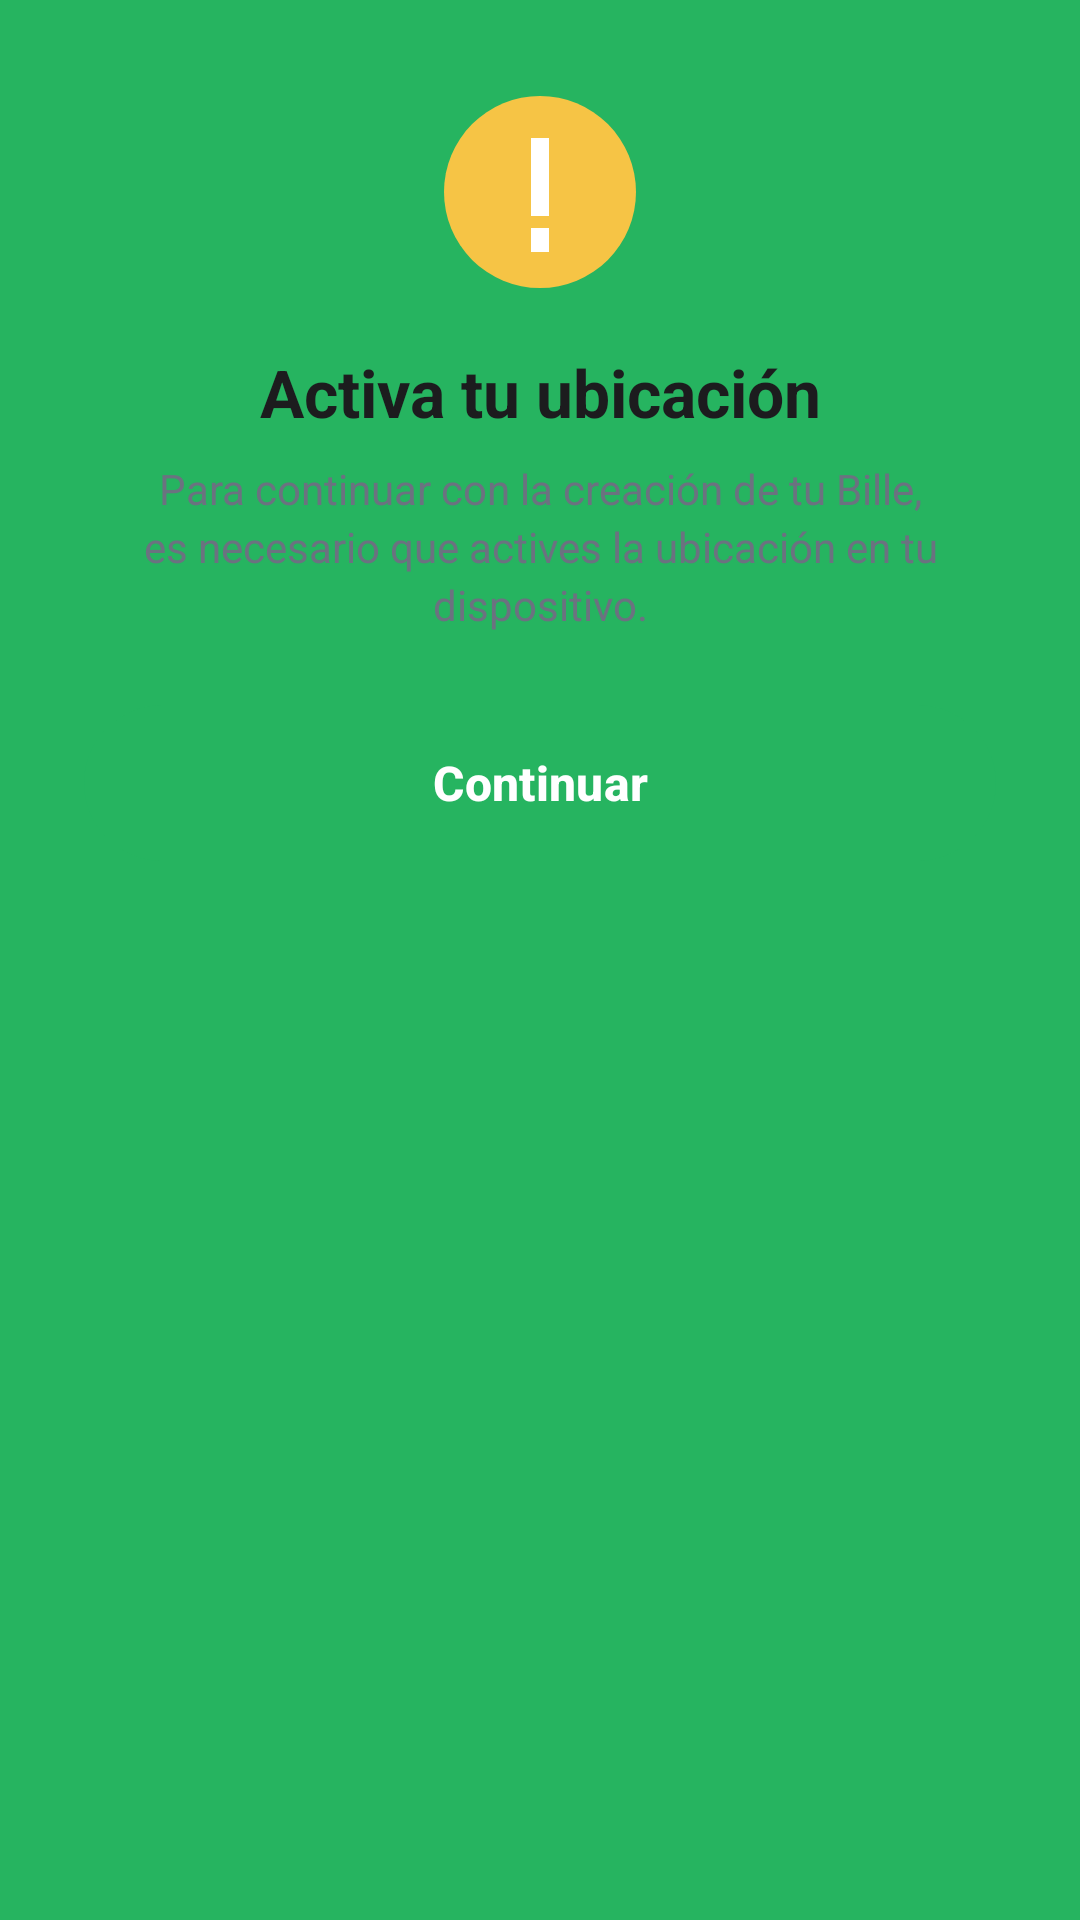

Icons on this 1080px x 1920px Android screen, each with its box as (x1, y1, x2, y2):
location warning: (444, 96, 636, 288)
